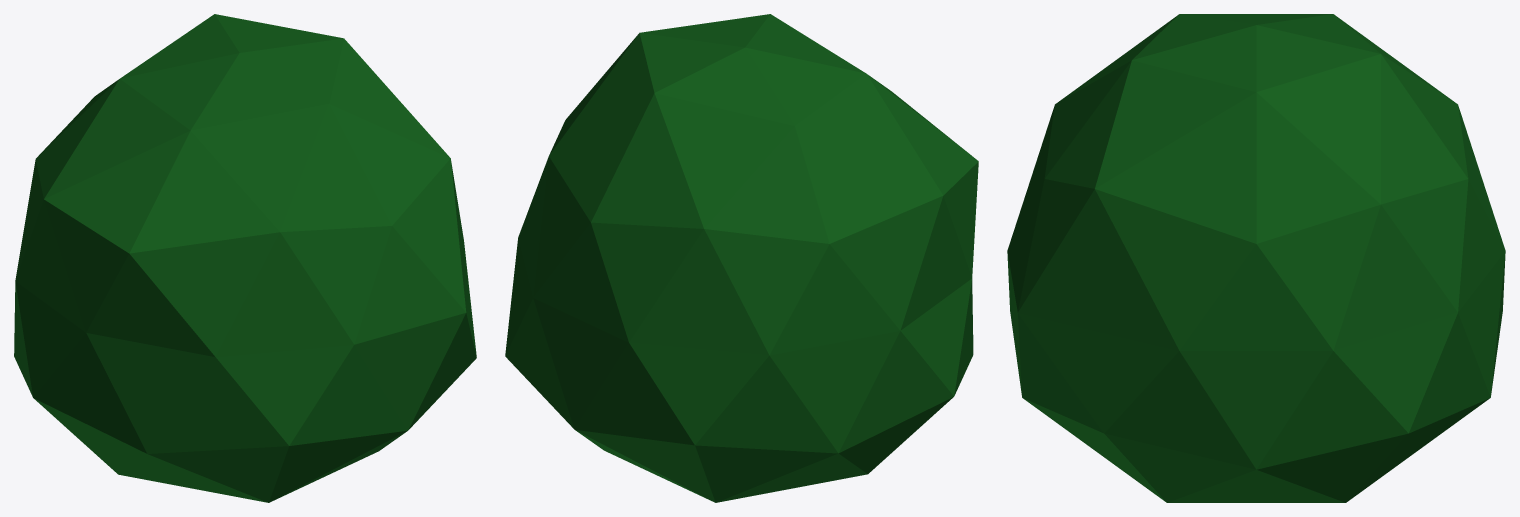
The model's file is bush.fbx.
3 views of the same model, side by side, from view 1: azimuth 30°, elevation 25°; view 2: azimuth 150°, elevation 25°; view 3: azimuth 270°, elevation 25° (orthographic). The views are drawn at different scales.
Parts seen in each view (by area): view 1: Icosphere; view 2: Icosphere; view 3: Icosphere.
Part boxes in pixels (x1=…): Icosphere: x1=14, y1=14, x2=476, y2=502; Icosphere: x1=505, y1=14, x2=978, y2=502; Icosphere: x1=1007, y1=14, x2=1505, y2=502.
Size of the model in its own units: 203 by 206 by 200.
